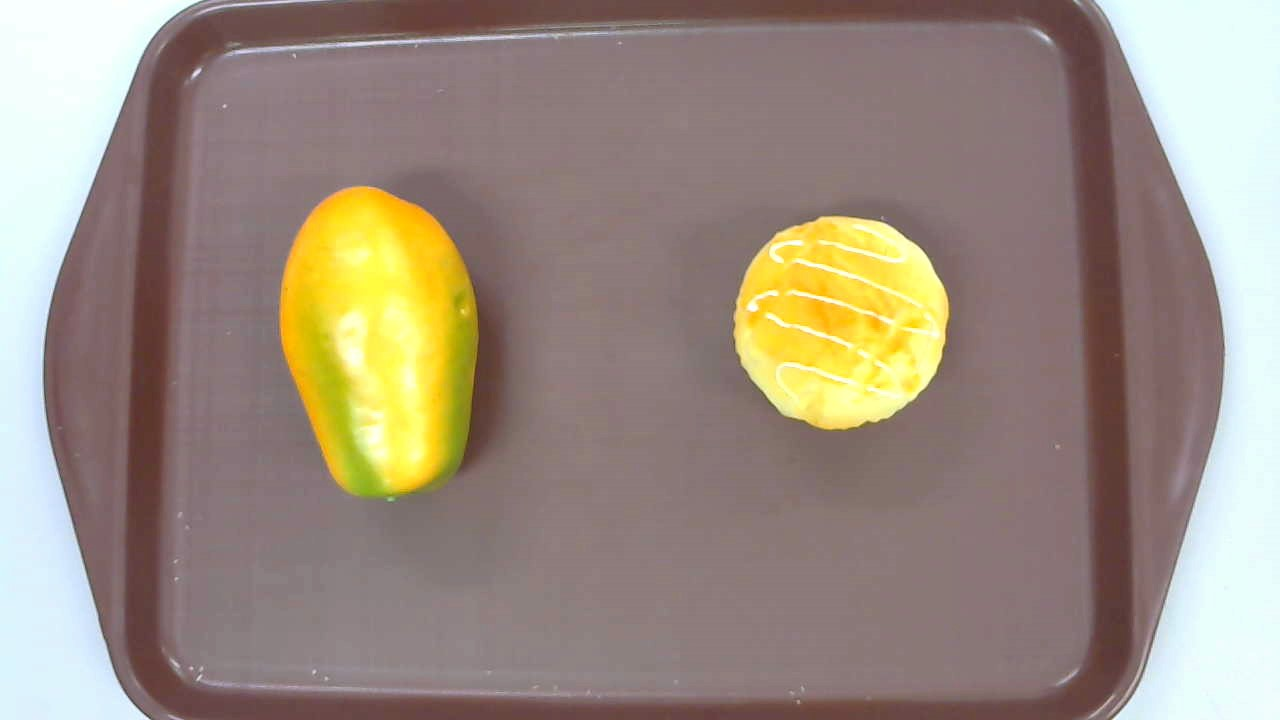cupcake: (733, 215, 948, 430)
papya: (279, 185, 480, 503)
